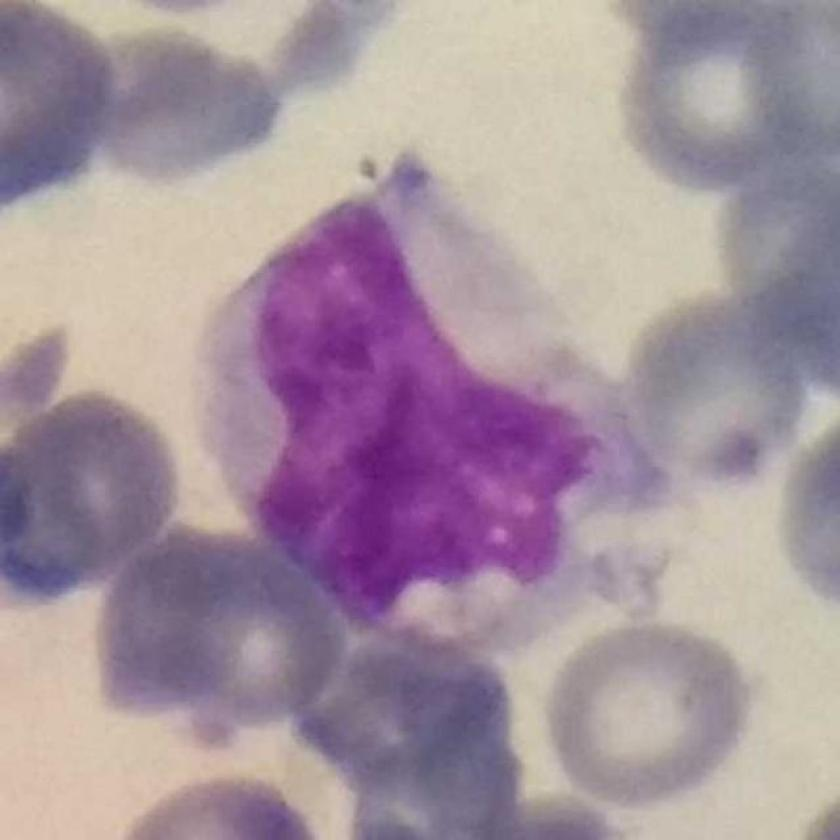monocyte: (175, 138, 692, 665)
